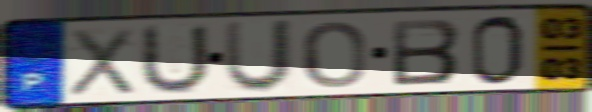0: (468, 13, 529, 87)
B: (389, 17, 464, 88)
O: (300, 19, 369, 90)
U: (221, 17, 298, 96), (135, 21, 213, 98)
X: (66, 26, 138, 99)
